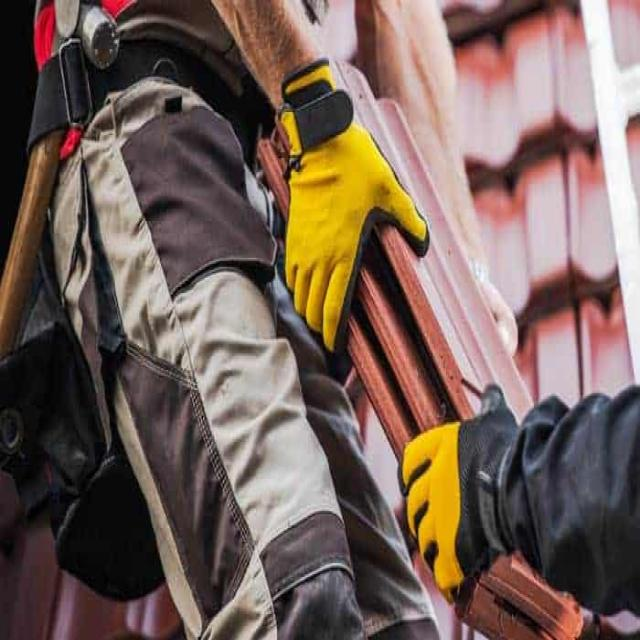gloves: (277, 51, 432, 353), (400, 378, 523, 602)
